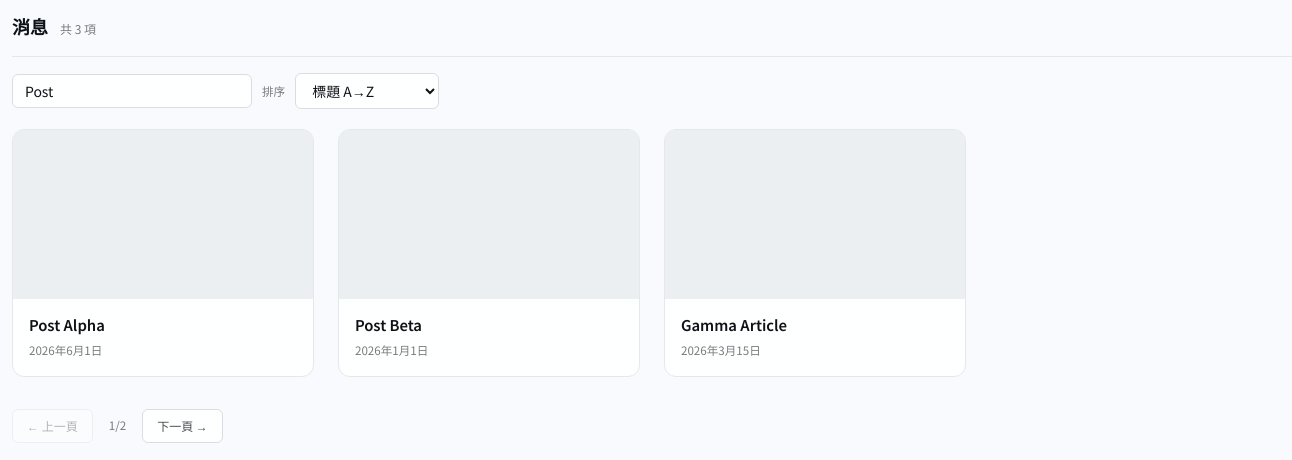
Test: ContentPage › preserves filter/sort in URL when navigating to article and back (regression #127)
Expected: the field with placeholder "搜尋..." holds "Post", [12,74,252,108]
Expected: the dropdown named "Sort by" shows "標題 A→Z", [295,73,439,109]
What coordinates should you click on to do the following:
click the heading "Post Alpha"
I would click on:
 (67, 324)
Its box is [29,314,105,335].
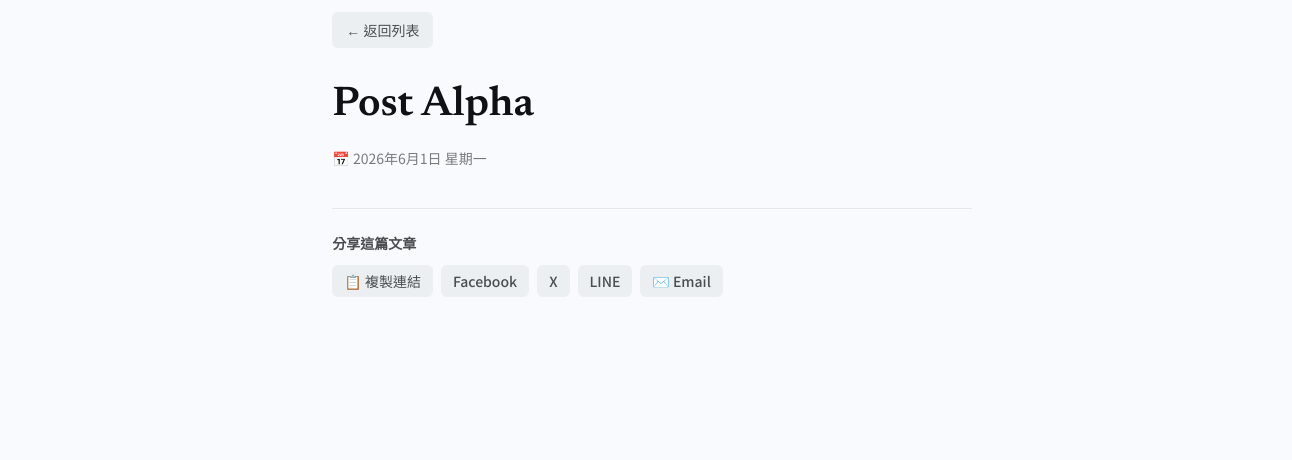
Now the text "1/2" is gone
What coordinates should you click on to do the following:
click the button "← 返回列表"
I would click on:
 (383, 30)
Its box is [332,12,434,48].
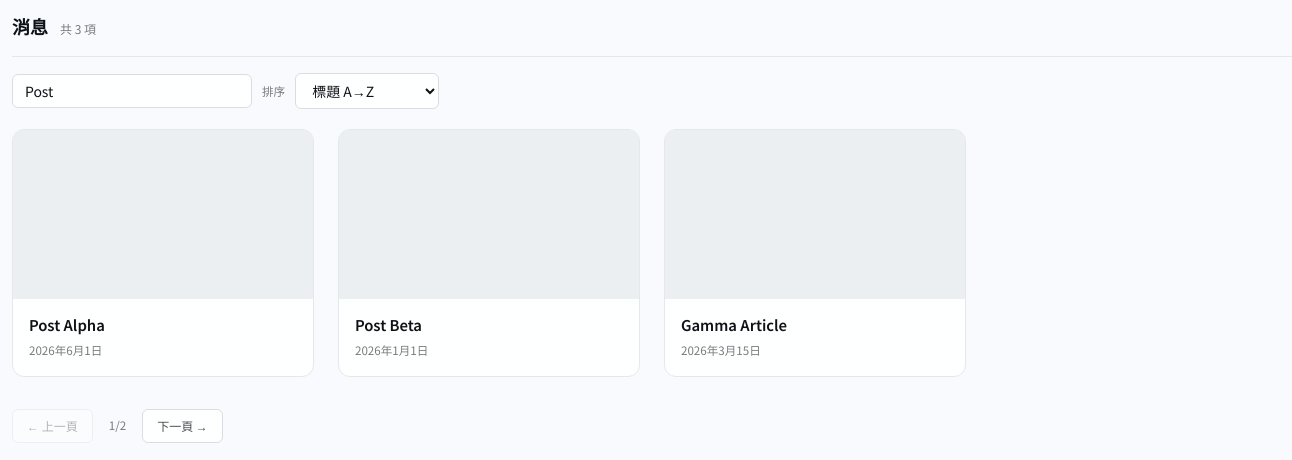
Now the field with placeholder "搜尋..." holds "Post", box [12,74,252,108]
Now the dropdown named "Sort by" shows "標題 A→Z", box [295,73,439,109]
